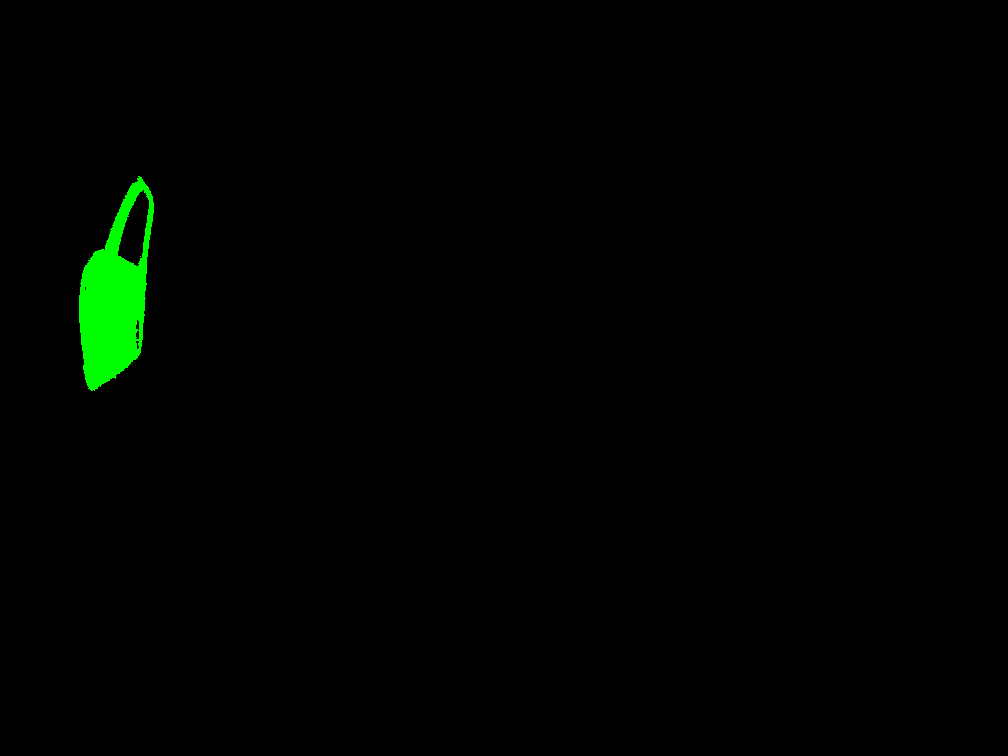car_door: (79, 176, 153, 390)
